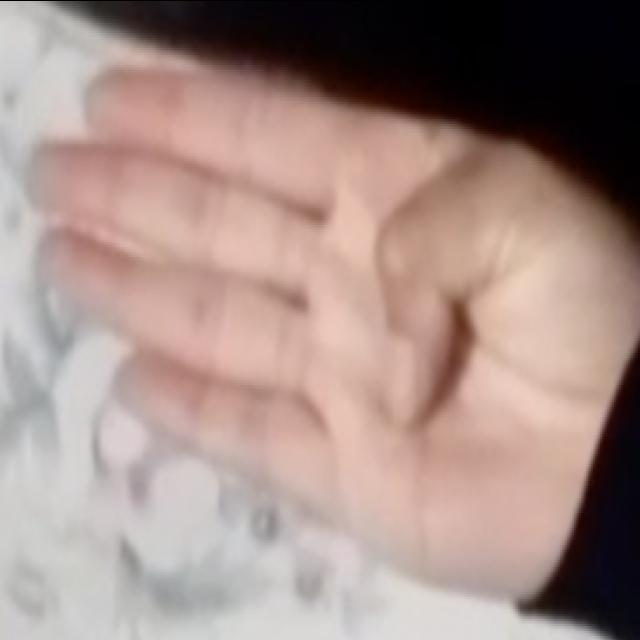B: (16, 42, 574, 608)
